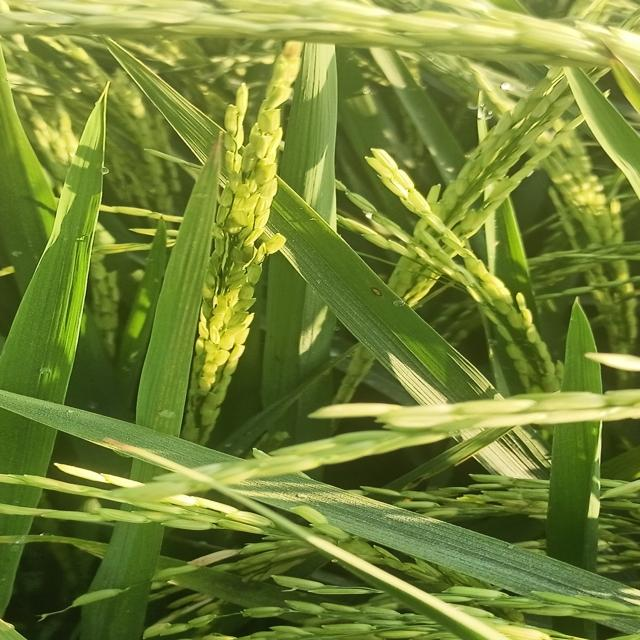insects: (368, 280, 388, 301)
